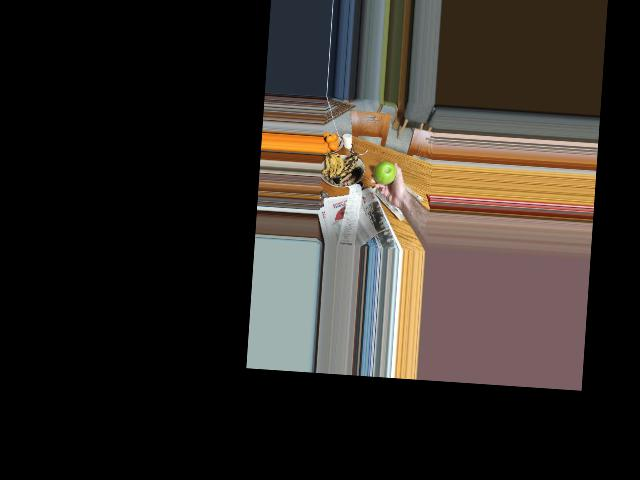apple: (371, 160, 399, 186)
